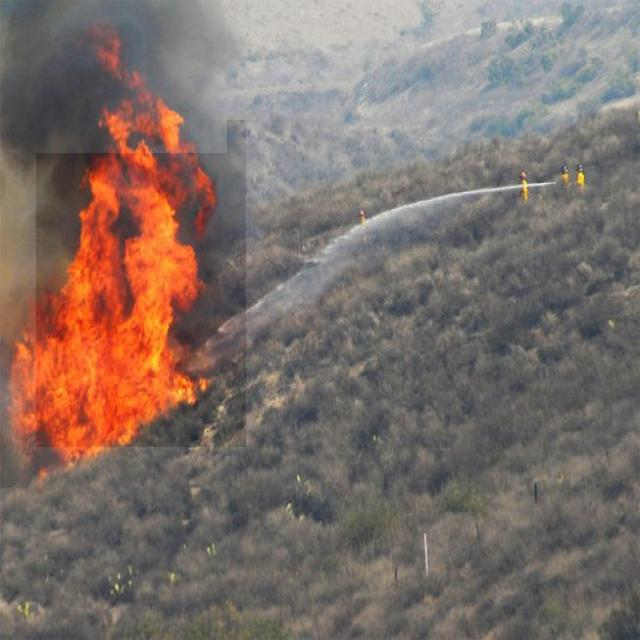Fire: (36, 120, 246, 447)
Smoke: (9, 0, 227, 153)
